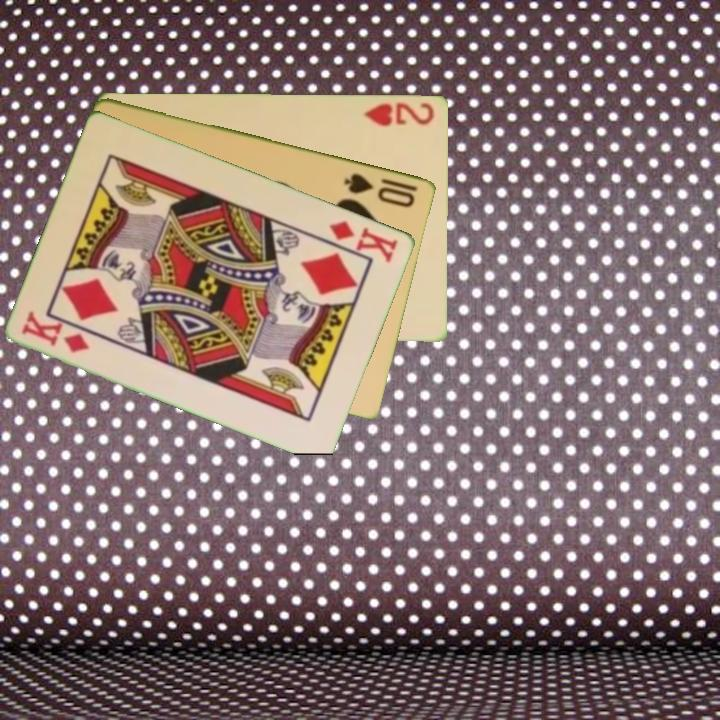10s: (341, 169, 418, 210)
2h: (360, 99, 437, 129)
Kd: (326, 217, 401, 266), (18, 308, 93, 356)
